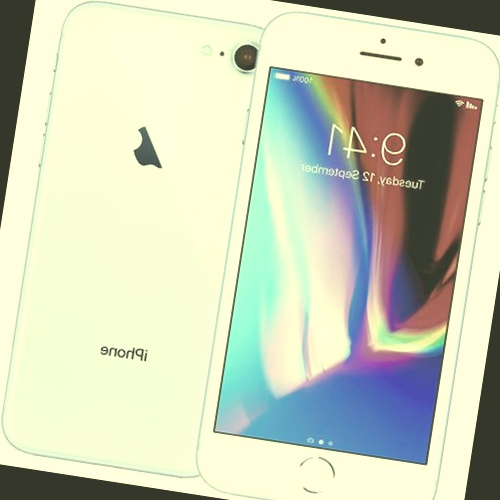iphone: (26, 7, 276, 495)
